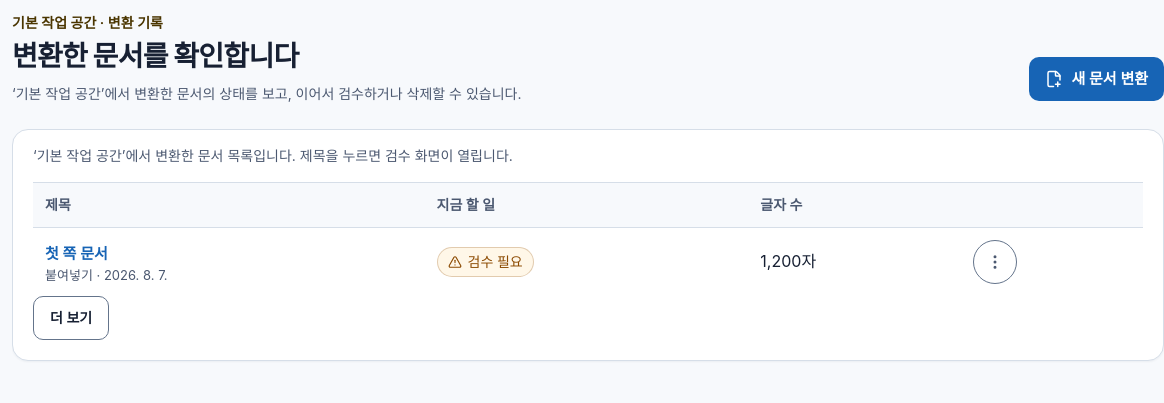
Test case: 변환 기록 › 더 보기를 누르면 다음 쪽을 이어 붙인다
Click the button "더 보기". click: [71, 318]
box: [33,296,109,340]
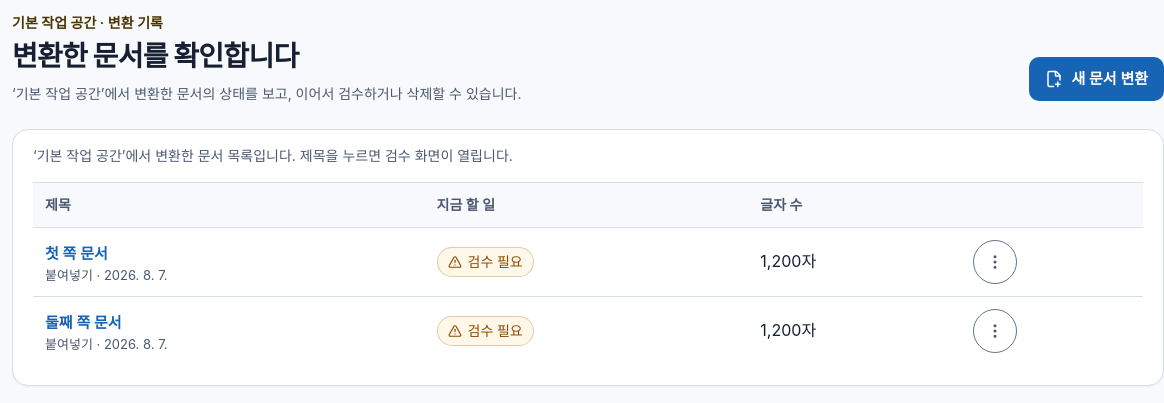
Check: the link "첫 쪽 문서" is shown, box [45,244,108,263]
Check: the link "둘째 쪽 문서" is shown, box [45,313,122,332]
Check: the button "더 보기" is gone
